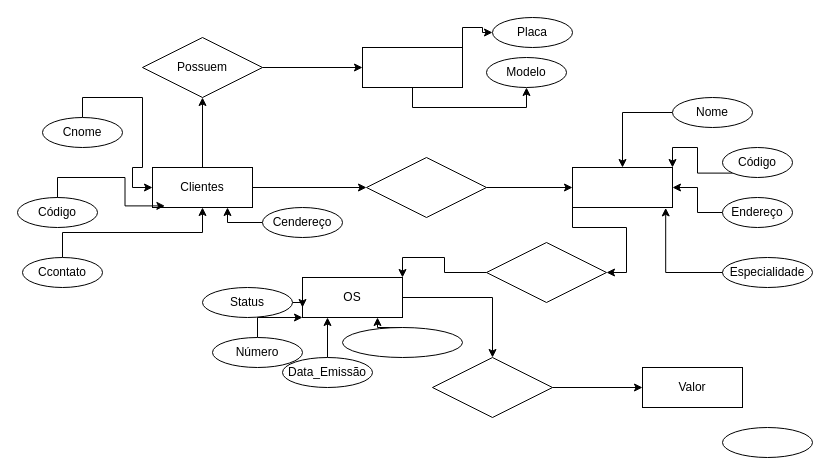
This 830x475 diagram has some shape labels left out. Here are the shapes that lost their labels. From the top down, the centre of each, then its label:
the point at 412,67: Veiculos
the point at 426,187: Requisitam
the point at 622,187: Mecanicos
the point at 546,272: Criam
the point at 402,342: Data_Conclusão
the point at 492,387: Calcula
the point at 767,442: Número_OS
